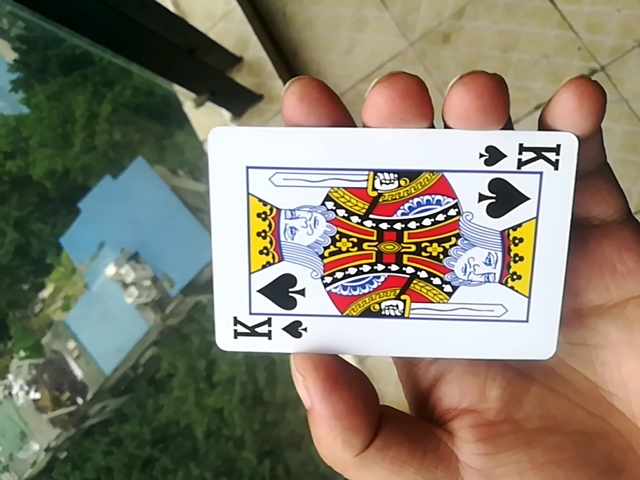ht k: (204, 121, 578, 365)
